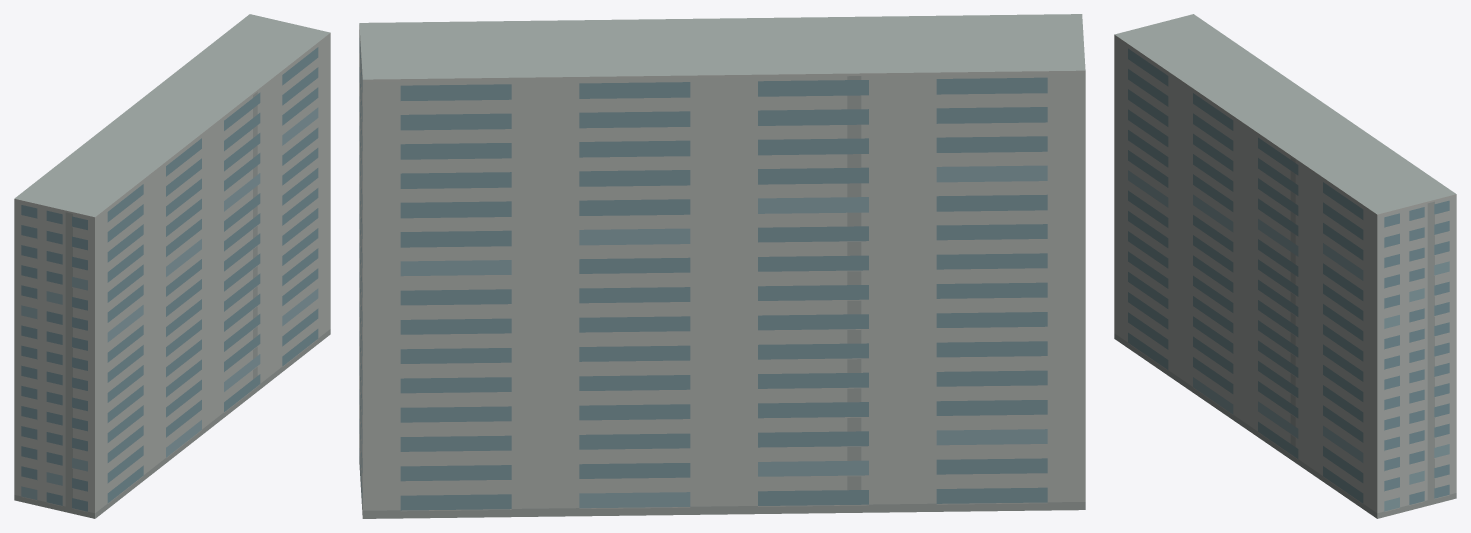
The model's file is residential-f7551600-d87c-45ad-afce-120edf48bd07.glb.
3 renders of one model, left to right at view 1: azimuth 30°, elevation 25°; view 2: azimuth 150°, elevation 25°; view 3: azimuth 270°, elevation 25°, orthographic. The views are drawn at different scales.
Visible parts, largest first — view 1: residential-f7551600-d87c-45ad-afce-120edf48bd07.tmp; view 2: residential-f7551600-d87c-45ad-afce-120edf48bd07.tmp; view 3: residential-f7551600-d87c-45ad-afce-120edf48bd07.tmp.
Part boxes in pixels (box(x1,y1,x2,y2)): residential-f7551600-d87c-45ad-afce-120edf48bd07.tmp: box(14, 14, 330, 518); residential-f7551600-d87c-45ad-afce-120edf48bd07.tmp: box(359, 14, 1085, 518); residential-f7551600-d87c-45ad-afce-120edf48bd07.tmp: box(1114, 14, 1456, 518).
Size of the model in its own units: 59.39 by 42 by 42.82.
